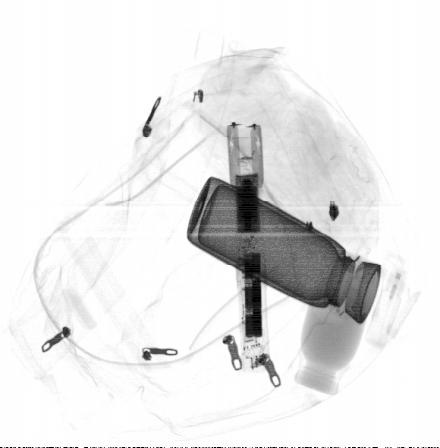Baton: (227, 122, 270, 375)
